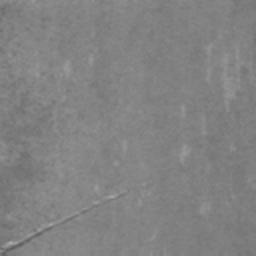Finishing roll printing: (1, 179, 163, 255)
